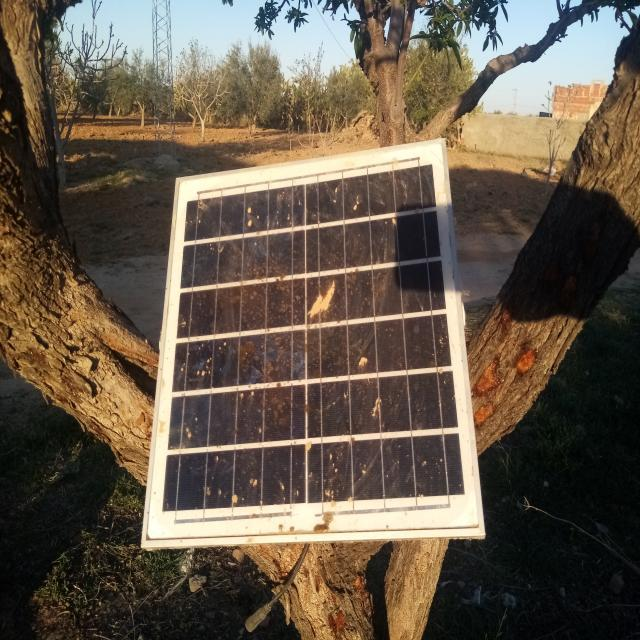faulty: (145, 146, 478, 539)
